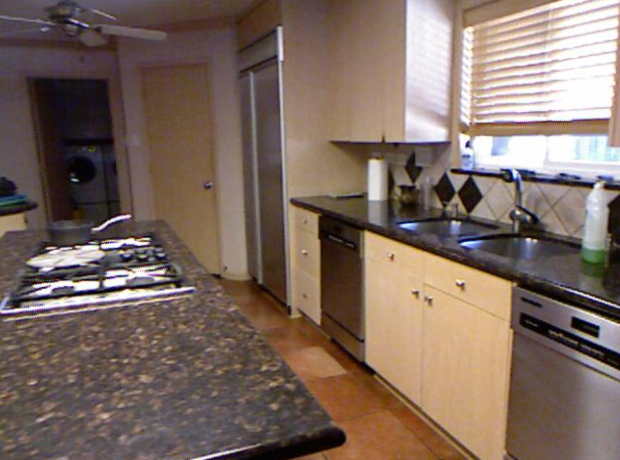cabinetDoor: (423, 296, 479, 398), (371, 280, 420, 369), (434, 272, 491, 294), (371, 248, 419, 264), (294, 242, 317, 265), (293, 282, 317, 304), (295, 212, 317, 230)
door: (141, 69, 215, 218)
openedDoor: (23, 72, 124, 214)
table: (0, 227, 167, 460)
window: (480, 26, 613, 163)
